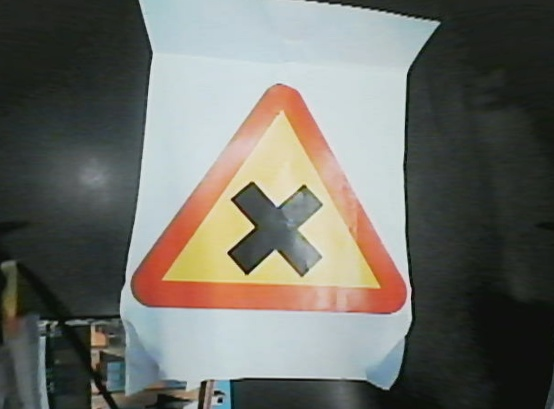junction: (110, 74, 406, 317)
